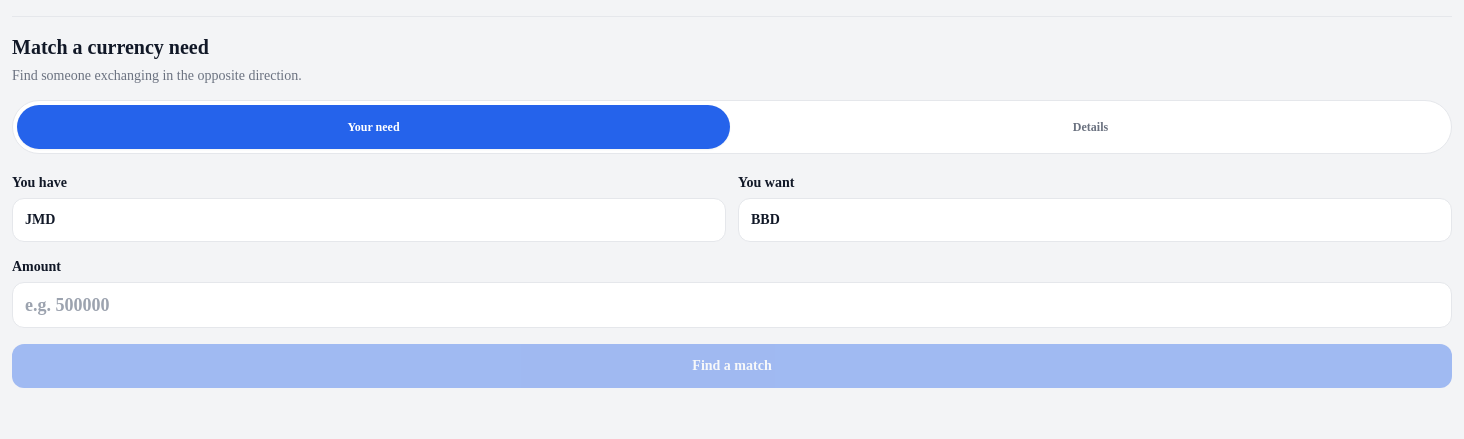
it: FxNettingRail — settlement-native credit file readout › renders a scored file with volume and counterparty counts
Step 1. Click the button "Details" → (1090, 127), box [734, 105, 1447, 149]
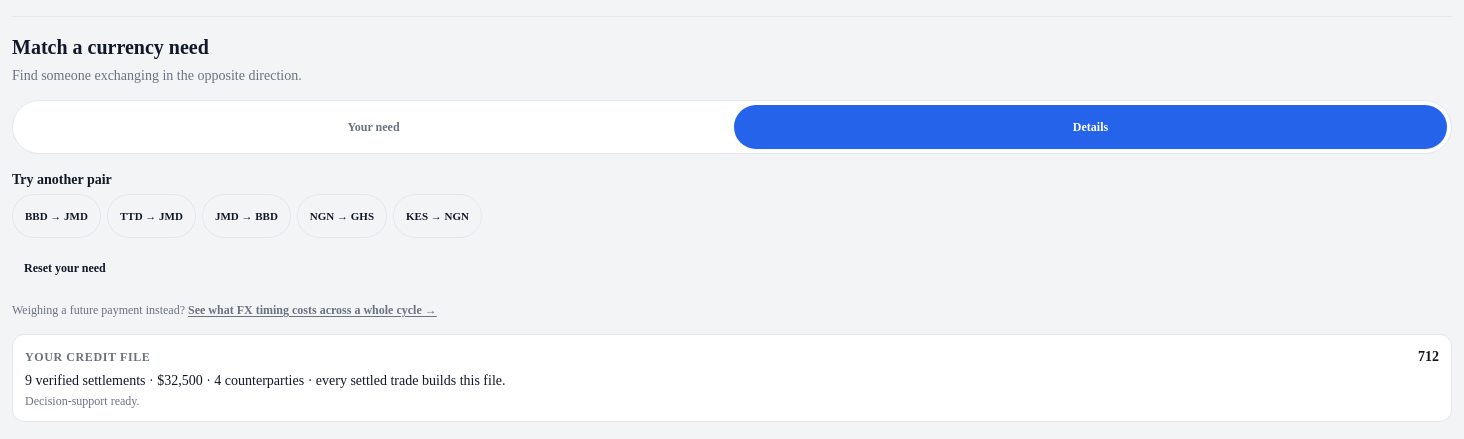
Now the text with test id "fx-credit-score" reads "712", box [1418, 349, 1439, 364]
Now the text with test id "fx-credit-summary" shows "9 verified settlements", box [25, 373, 506, 388]
Now the text with test id "fx-credit-summary" shows "4 counterparties", box [25, 373, 506, 388]
